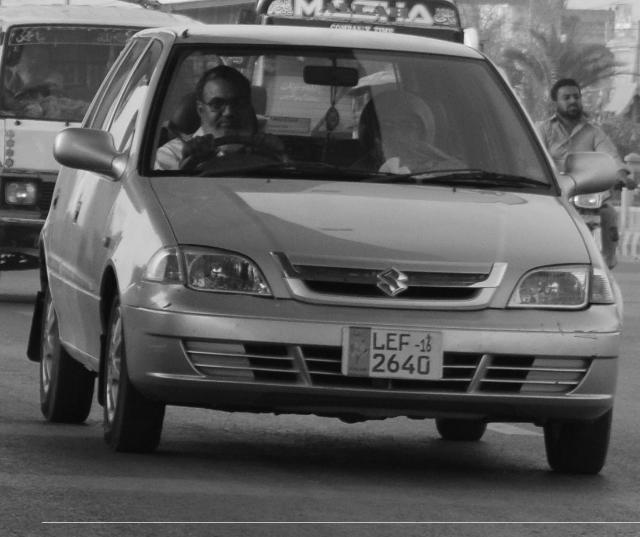Number: (370, 331, 434, 376)
